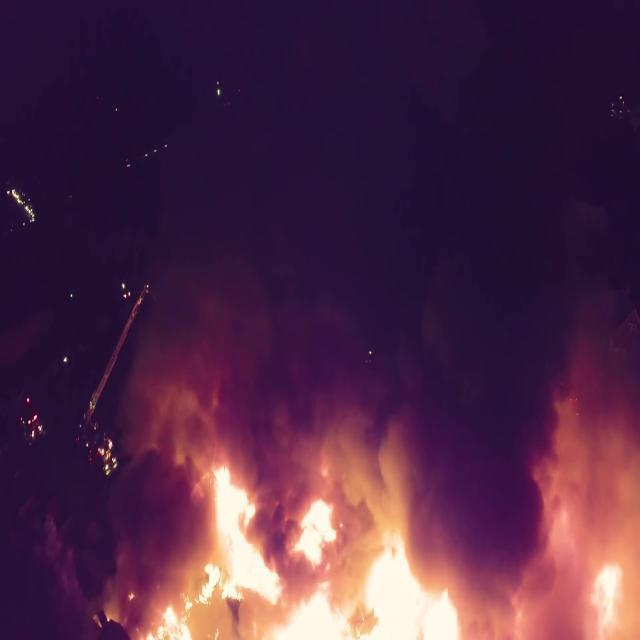Fire: (538, 412, 627, 640), (200, 468, 271, 615), (362, 569, 456, 640), (276, 581, 356, 640), (300, 502, 335, 566)
Smoke: (226, 252, 530, 554), (100, 274, 300, 449), (34, 462, 203, 594)
